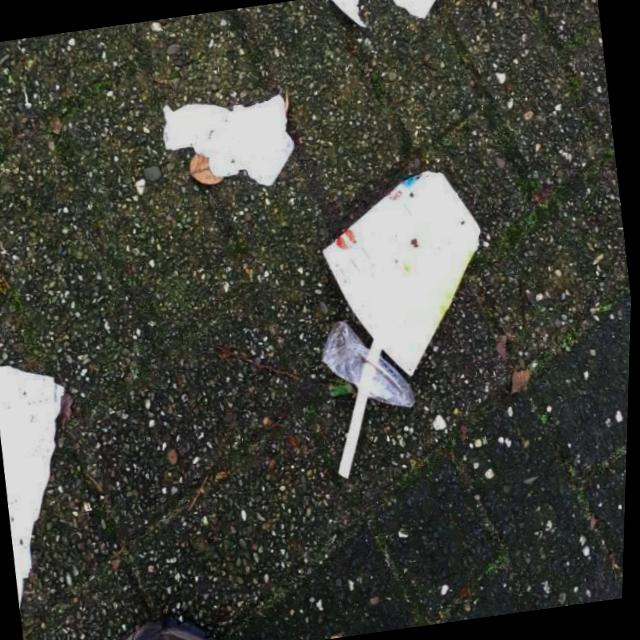Cup: (309, 160, 505, 392)
Paper: (0, 353, 102, 625), (156, 83, 303, 204)
